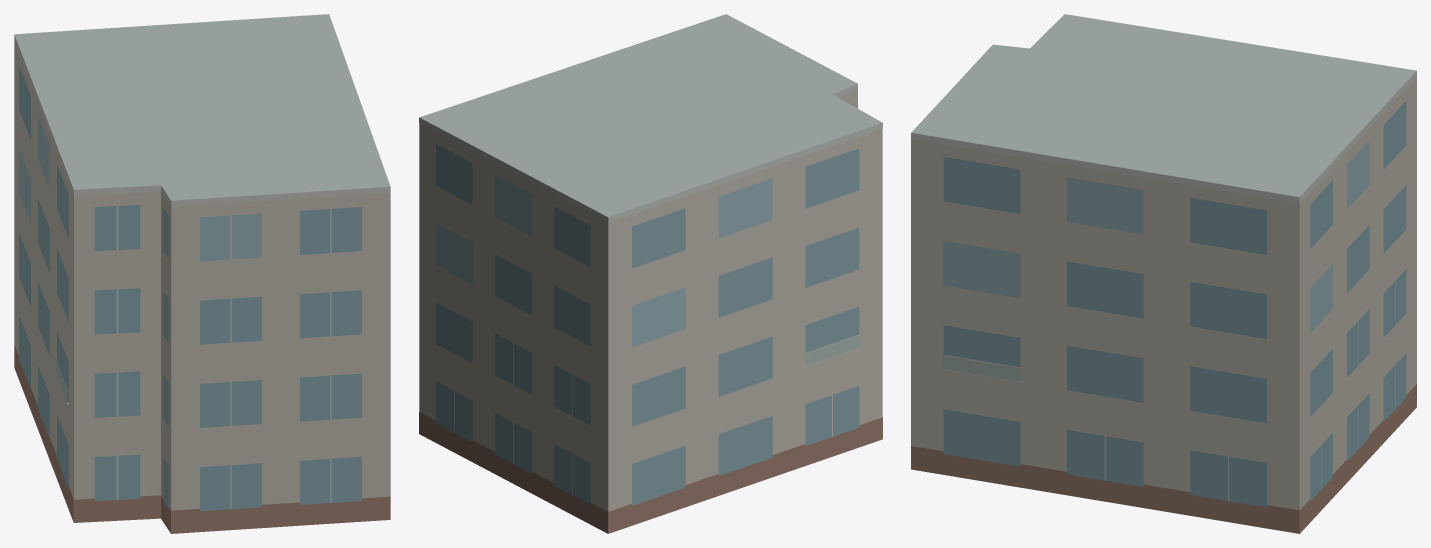
Rendered from survey-upis-32658865.glb.
3 renders of one model, left to right at view 1: azimuth 30°, elevation 25°; view 2: azimuth 150°, elevation 25°; view 3: azimuth 270°, elevation 25°, orthographic. The views are drawn at different scales.
Parts seen in each view (by area): view 1: survey-upis-32658865.tmp; view 2: survey-upis-32658865.tmp; view 3: survey-upis-32658865.tmp.
Boxes of the visible parts, bbox=[...] form: survey-upis-32658865.tmp: bbox=[14, 14, 390, 533]; survey-upis-32658865.tmp: bbox=[419, 14, 882, 533]; survey-upis-32658865.tmp: bbox=[911, 14, 1416, 533].
Size of the model in its own units: 15.42 by 13.2 by 17.98.
